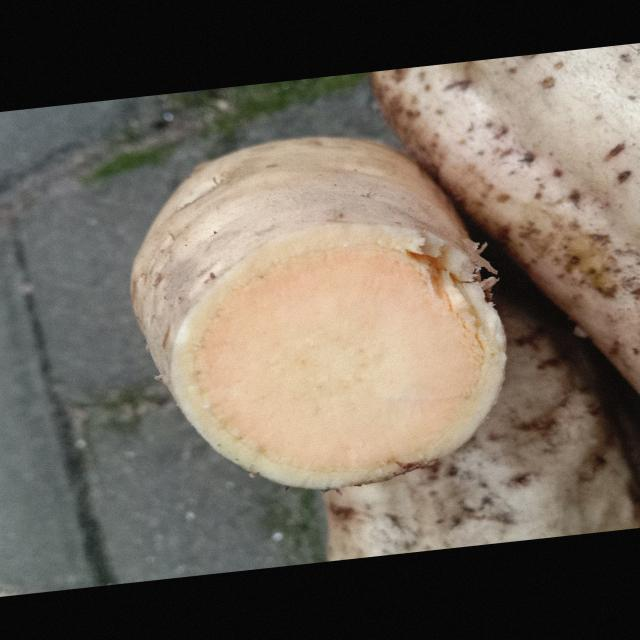Healthy Sweet Potato: (170, 224, 505, 489)
